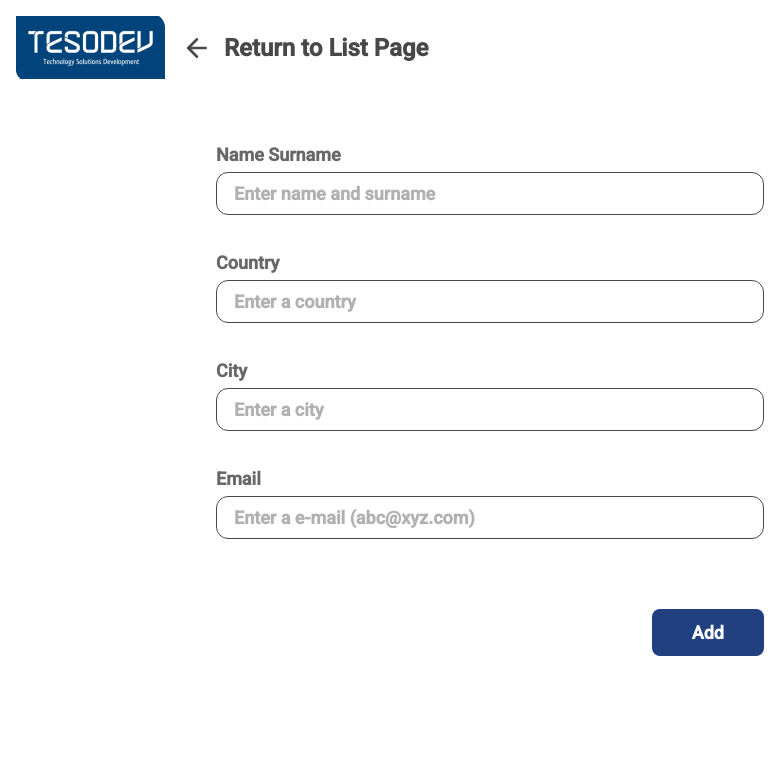
successful referral › check onsubmit
The width and height of the screenshot is (781, 757).
Type "1sahinomer@gmail.com" into the field with test id "email" at (490, 518), box left=216, top=496, right=764, bottom=539
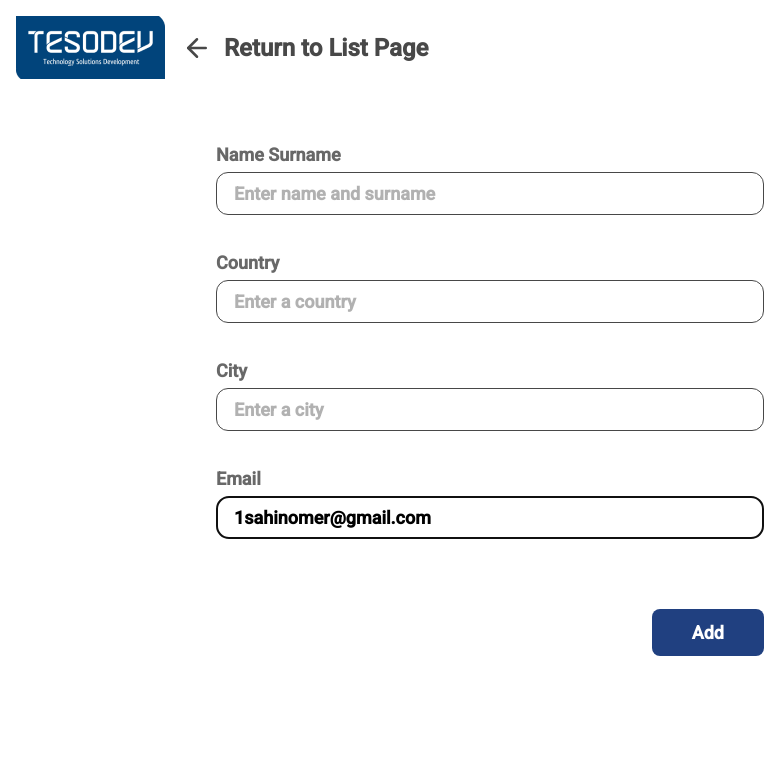
Type "Sahin Omer" into the field with test id "nameSurname" at (490, 194), box left=216, top=172, right=764, bottom=215
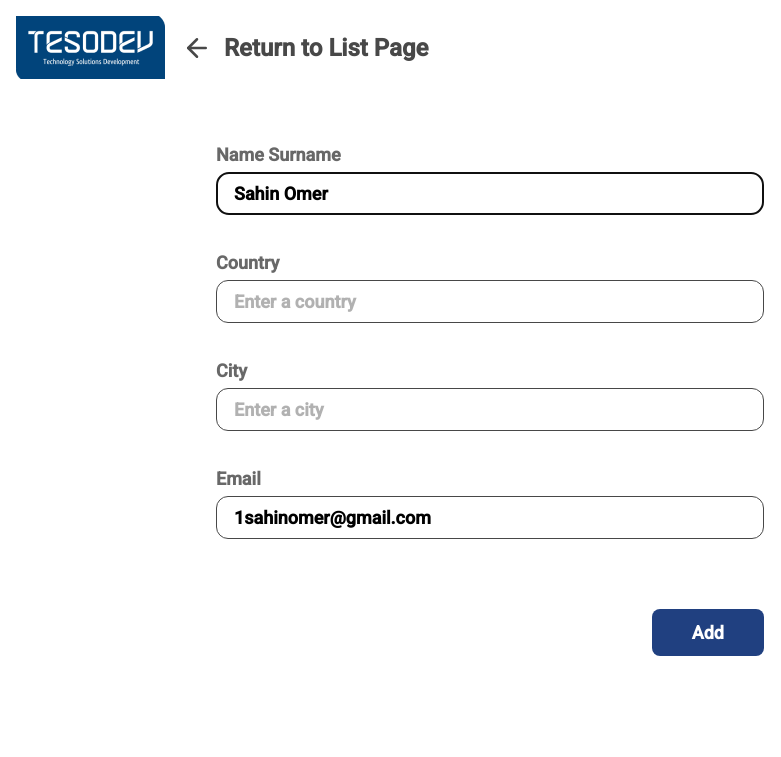
Type "Turkey" into the field with test id "country" at (490, 302), box left=216, top=280, right=764, bottom=323
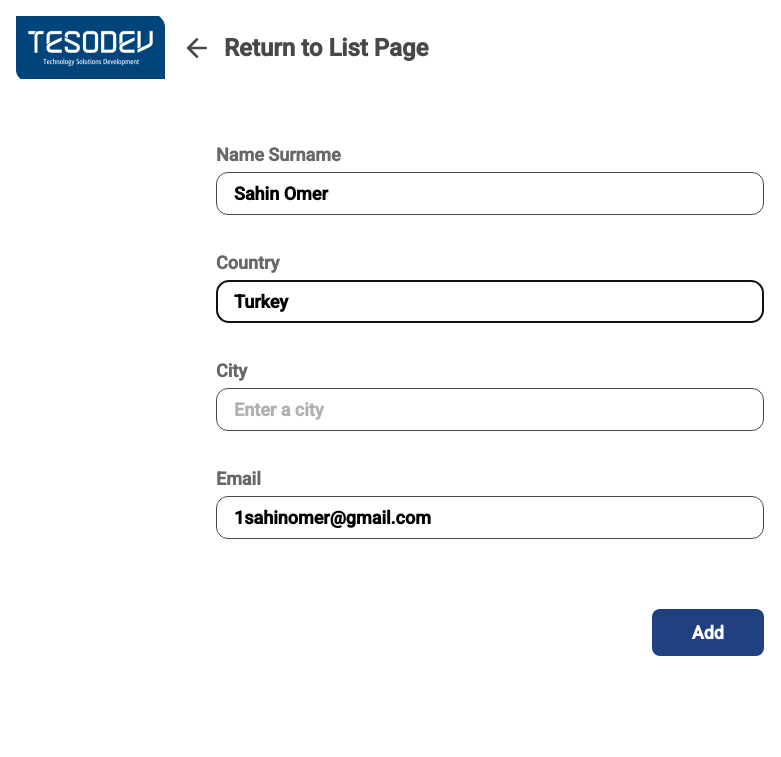
Type "Istanbul" into the field with test id "city" at (490, 410), box left=216, top=388, right=764, bottom=431
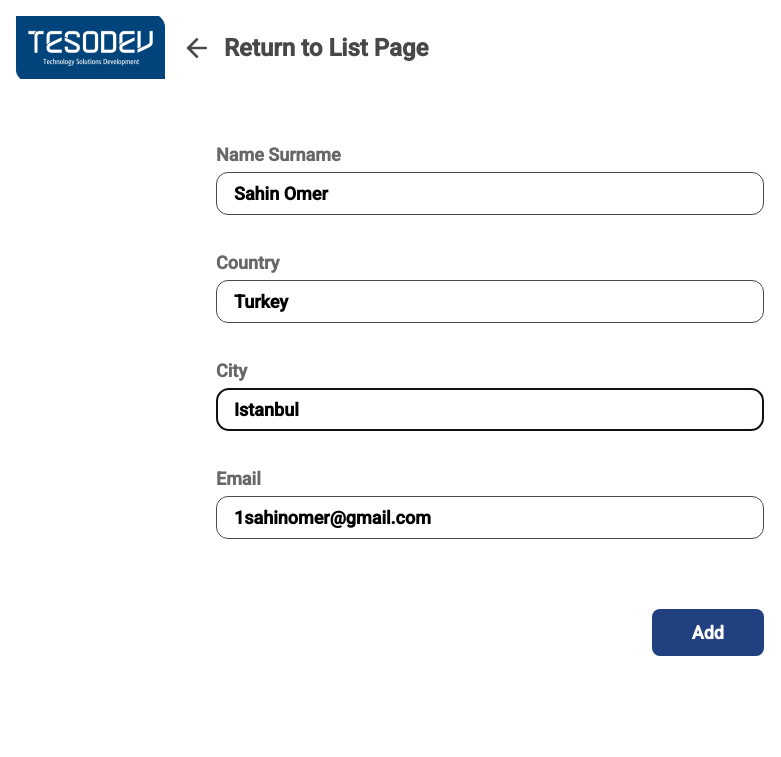
Click the button "Add" at (708, 632), box left=652, top=609, right=764, bottom=656
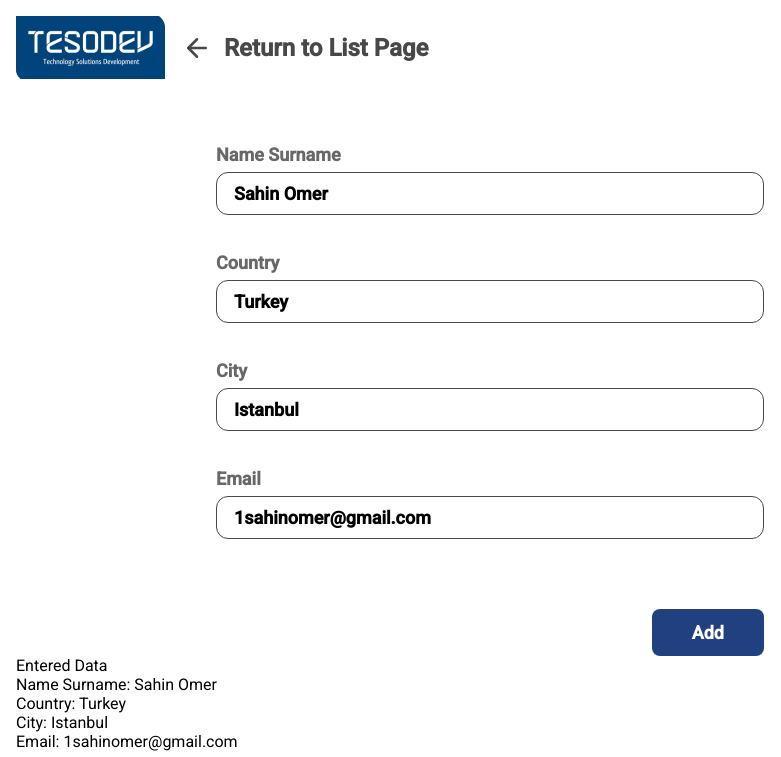
Result: the text "Entered Data" is shown at left=16, top=656, right=108, bottom=675
